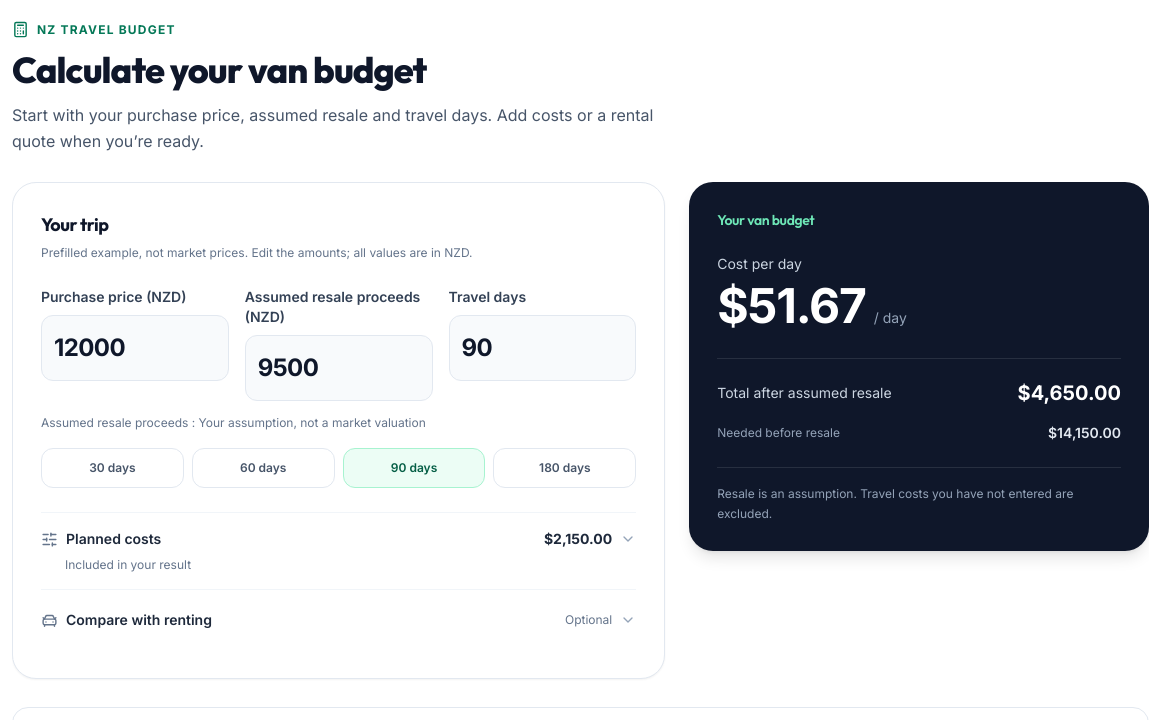
duration shortcuts update the daily cost while keeping the same trip total
The image size is (1164, 720).
Check: the number field labelled "Purchase price (NZD)" is shown, box [41,314,229,380]
Check: the number field labelled "Assumed resale proceeds (NZD)" is shown, box [245,334,433,400]
Click the button "60 days": (263, 468) [192,448,335,488]
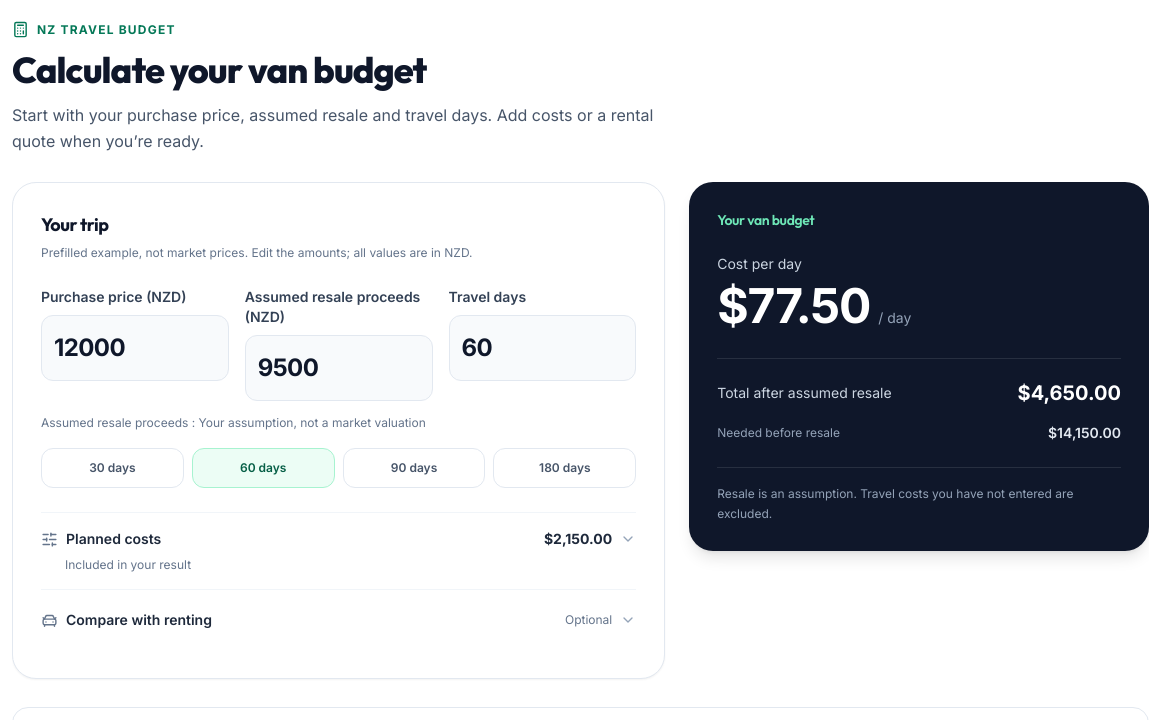
Check: the text "$4,650.00" is shown, box [1018,379,1121,407]
Check: the number field labelled "Travel days" holds "60", box [448,314,636,380]
Check: the text "$77.50" is shown, box [717,282,870,330]
